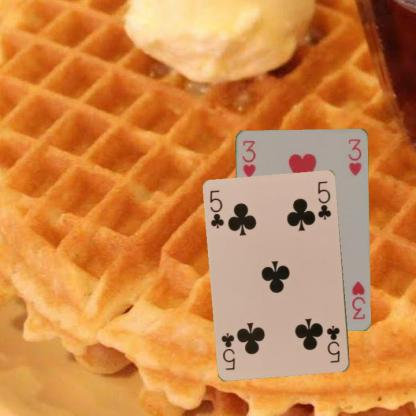3h: (348, 278, 367, 321), (239, 138, 257, 178)
5c: (208, 187, 226, 230), (324, 323, 342, 364)
